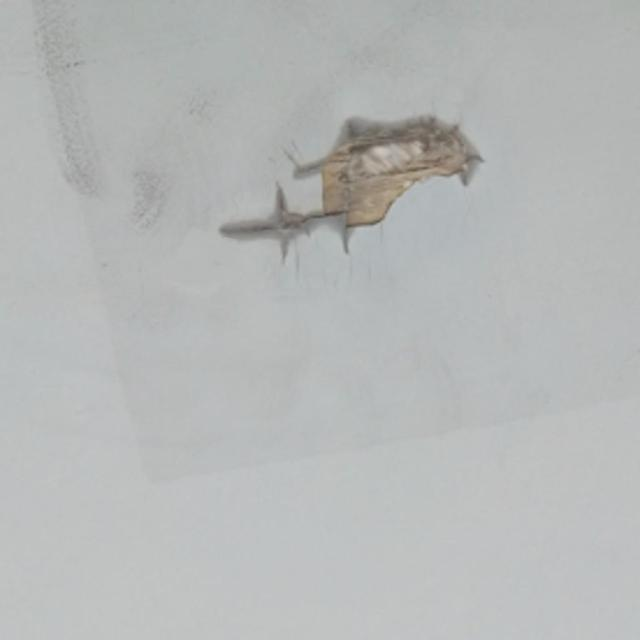surface_peeling: (235, 112, 478, 260)
